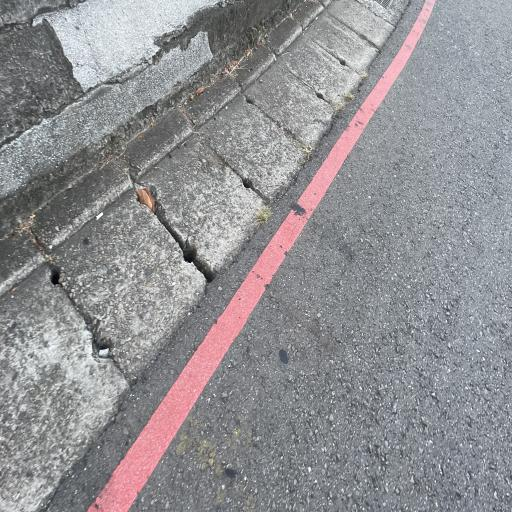redline: (87, 0, 441, 512)
